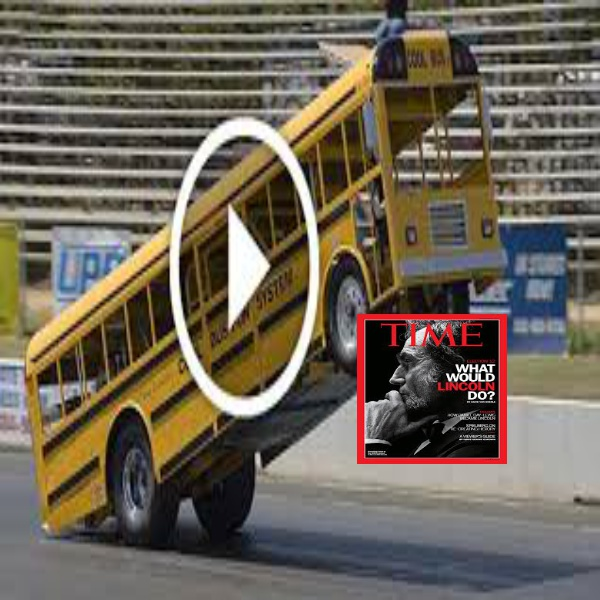time_cover: (353, 303, 515, 467)
